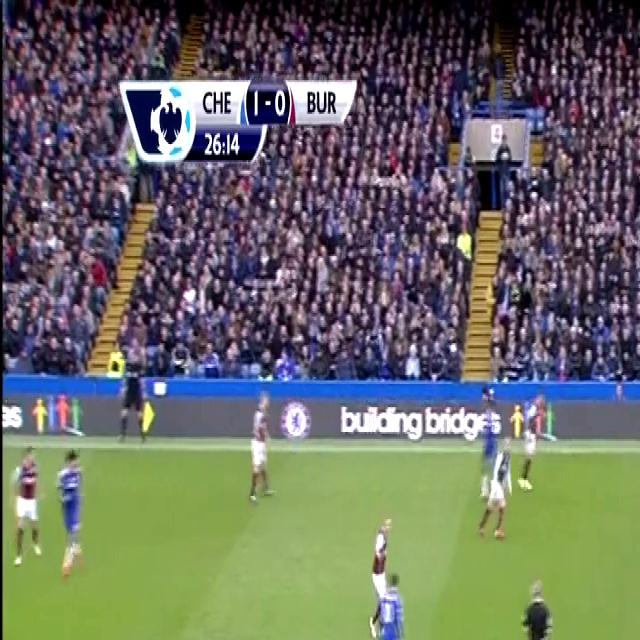referee: (114, 340, 154, 448), (512, 558, 554, 640)
soccer-player: (46, 437, 88, 580), (9, 438, 46, 565), (366, 504, 397, 632), (244, 399, 275, 510), (368, 567, 415, 640), (479, 449, 510, 549), (517, 389, 543, 490), (475, 393, 500, 488)
